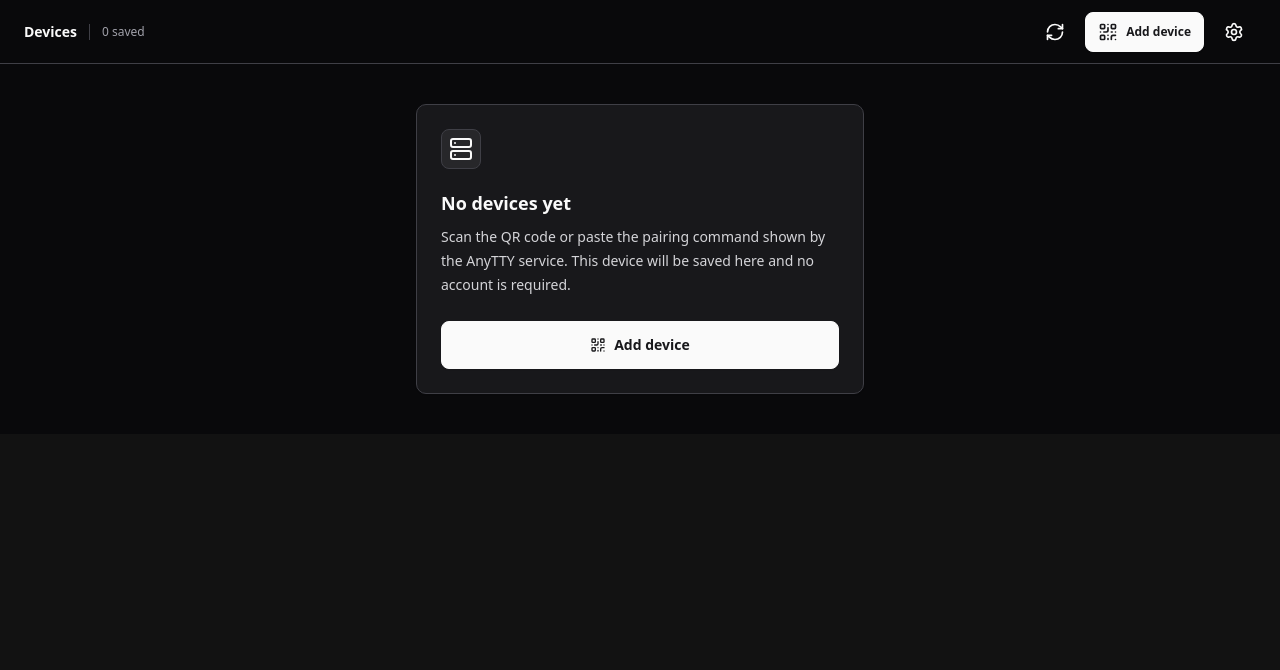
Test: RemoteControlApp accountless product shell › shows a sanitized scanner-load alert with reload as the only recovery
The width and height of the screenshot is (1280, 670).
Click the button "Add device" below "No devices yet".
click(640, 345)  # box [441,321,839,369]
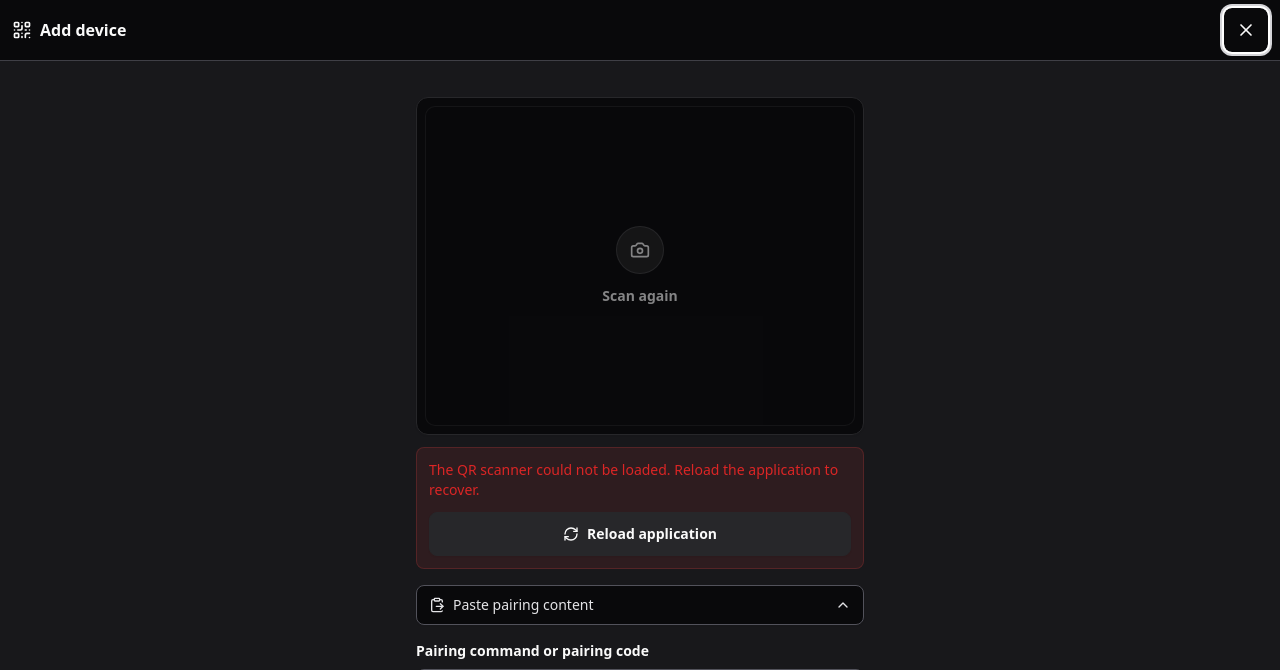
Check: the text "The QR scanner could not be loaded. Reload the application to recover." is shown, box [429,460,851,500]
Check: the button "Reload application" is shown, box [429,512,851,556]
Check: the button "Scan again" is disabled, box [425,106,855,426]
